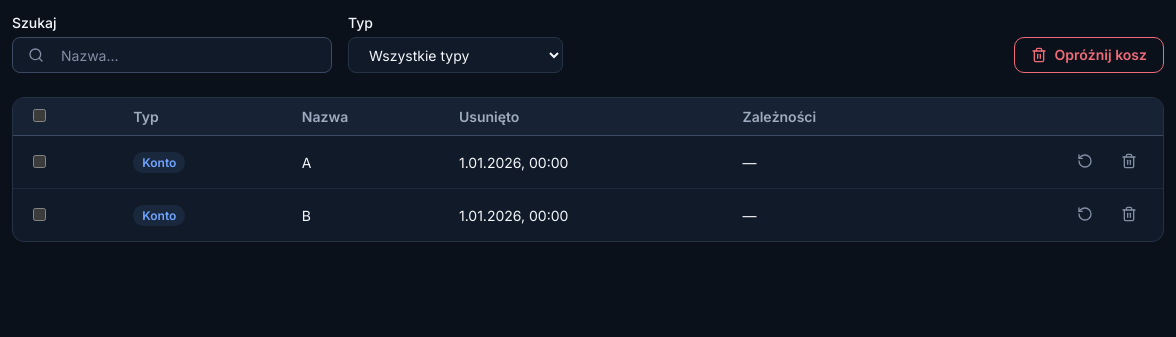
Test: KoszPage › 'Zaznacz wszystkie widoczne' zaznacza, a przy ponownym kliknięciu odznacza wszystko
Check: the text "A" is shown, box [286, 136, 443, 188]
Click the checkbox named "Zaznacz wszystkie widoczne". click: (40, 116)
box: [33, 109, 46, 122]
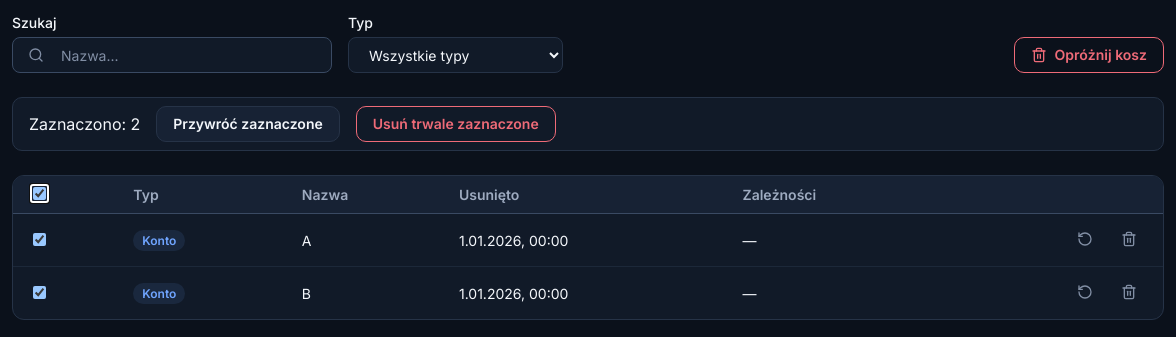
Check: the checkbox named "Zaznacz A" is checked, box [33, 232, 46, 246]
Check: the checkbox named "Zaznacz B" is checked, box [33, 286, 46, 298]
Click the checkbox named "Zaznacz wszystkie widoczne". click: (40, 194)
box: [33, 187, 46, 200]
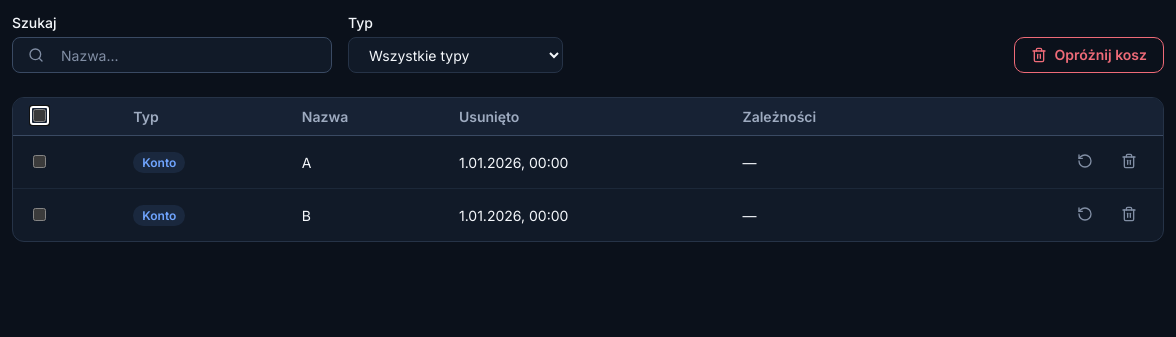
Check: the checkbox named "Zaznacz A" is not checked, box [33, 154, 46, 168]
Check: the checkbox named "Zaznacz B" is not checked, box [33, 208, 46, 220]
